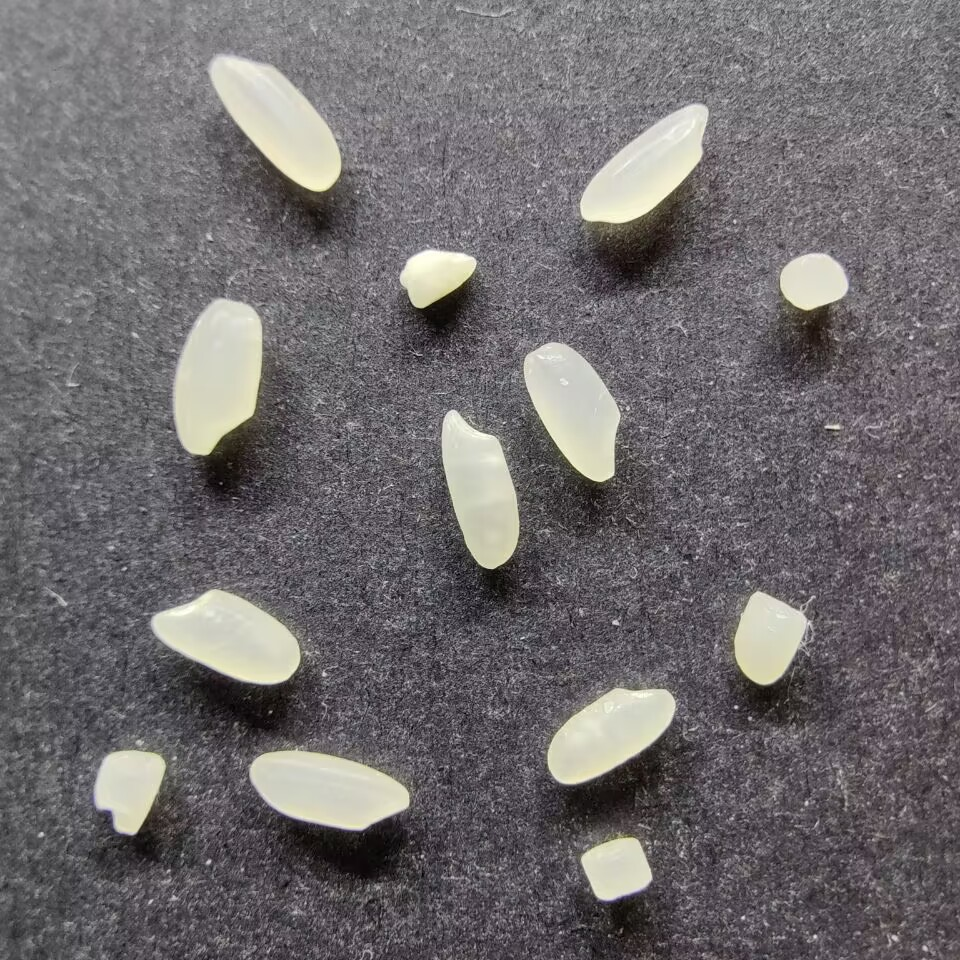broken: (733, 590, 807, 685), (93, 750, 165, 835), (398, 249, 477, 308), (580, 837, 652, 901), (778, 252, 848, 310)
rice: (207, 54, 342, 192), (579, 102, 709, 224), (150, 588, 299, 685), (172, 298, 263, 455), (522, 341, 621, 482), (248, 750, 410, 831), (440, 409, 520, 569), (546, 687, 675, 785)
